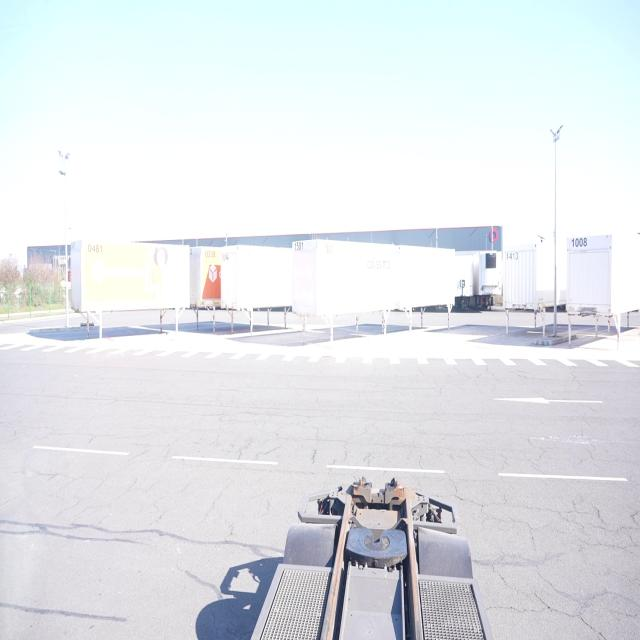Code: (568, 234, 591, 255), (86, 238, 107, 259), (503, 246, 523, 264), (290, 240, 310, 252), (202, 248, 217, 260)
